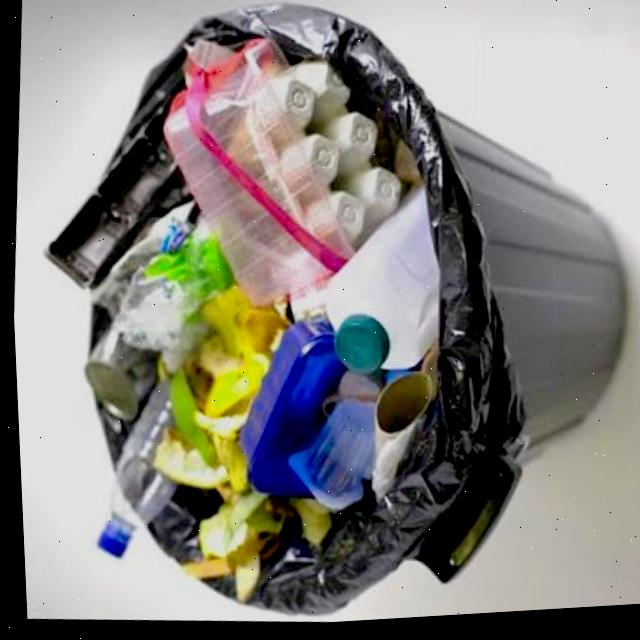Garbage: (45, 39, 435, 603)
Metal: (286, 284, 324, 325)
Plastic: (162, 41, 350, 306), (183, 69, 343, 276), (88, 202, 230, 379), (283, 404, 370, 512)
Plastic_Container: (43, 47, 187, 287), (235, 323, 340, 498)
Plastic_bottle: (323, 190, 436, 375), (91, 382, 172, 558)
can: (80, 327, 154, 422)
